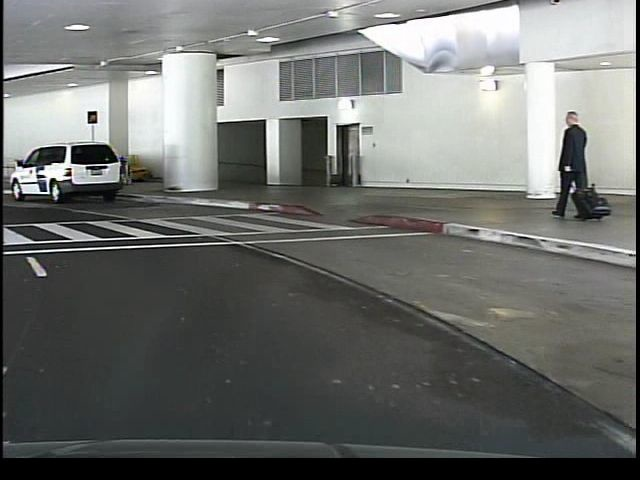person: (551, 102, 589, 224)
